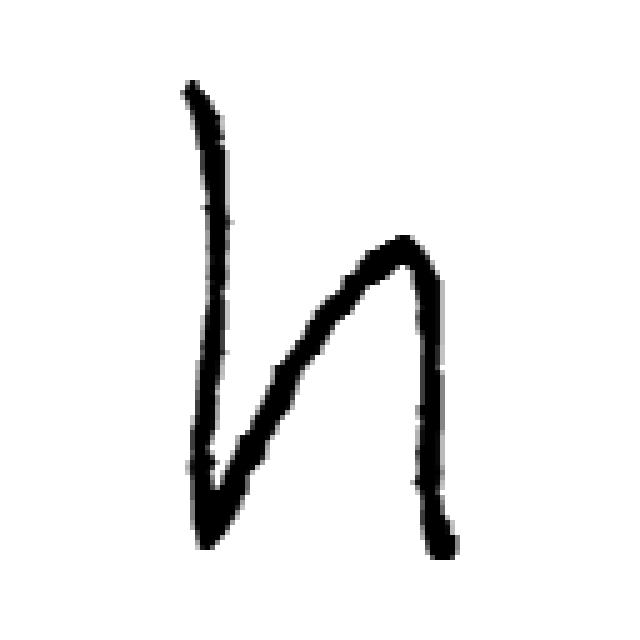H: (180, 80, 460, 565)
